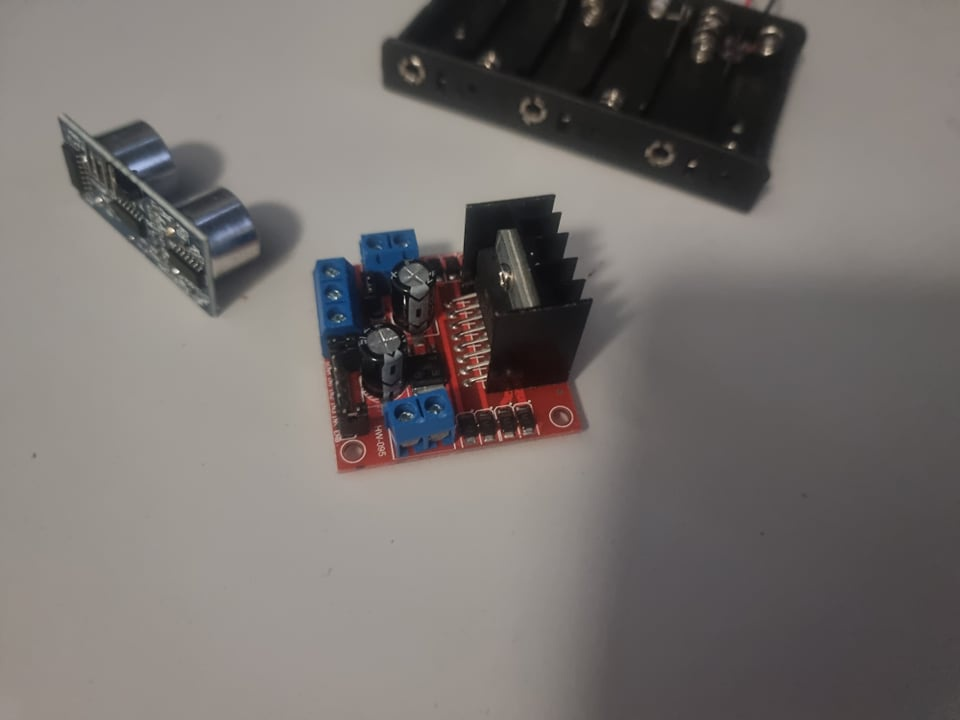BATTERY BOX: (374, 4, 810, 219)
MOTOR: (312, 192, 593, 474)
SENSOR: (60, 113, 259, 319)
